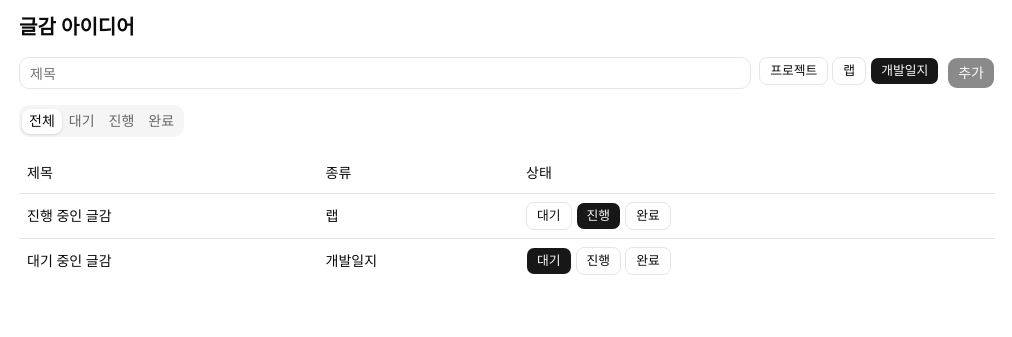
Scenario: IdeasPage 빠른 추가 › 예외 › 추가가 실패하면 입력한 제목이 남고 빠른 추가 아래에 오류 문구가 보여 다시 추가할 수 있어야 한다
expect the text "대기 중인 글감" is shown: met, box [19,238,318,282]
In the field with placeholder "제목": (385, 73) [19,57,751,89], type "실패했다 다시 추가"
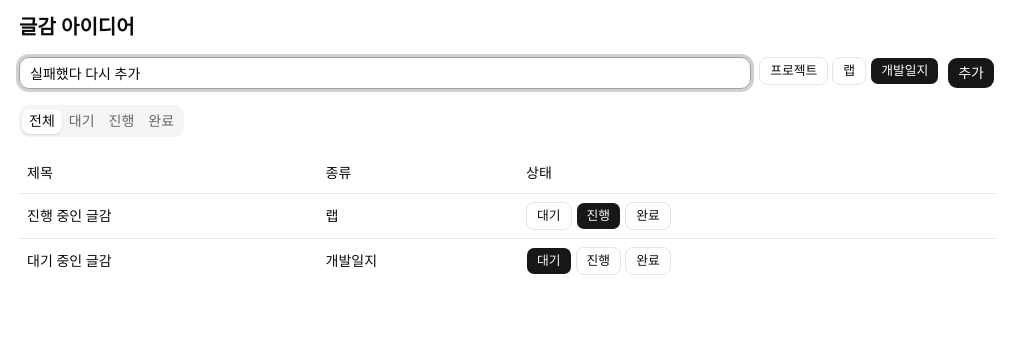
Click the button "추가": (971, 73) [947,57,995,89]
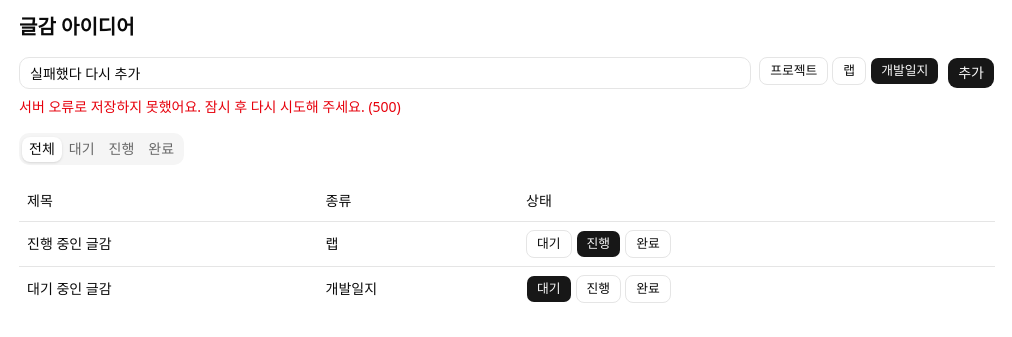
expect the message reads "서버 오류로 저장하지 못했어요. 잠시 후 다시 시도해 주세요. (500)": met, box [19,97,401,116]
Click the button "추가": (971, 73) [947,57,995,89]
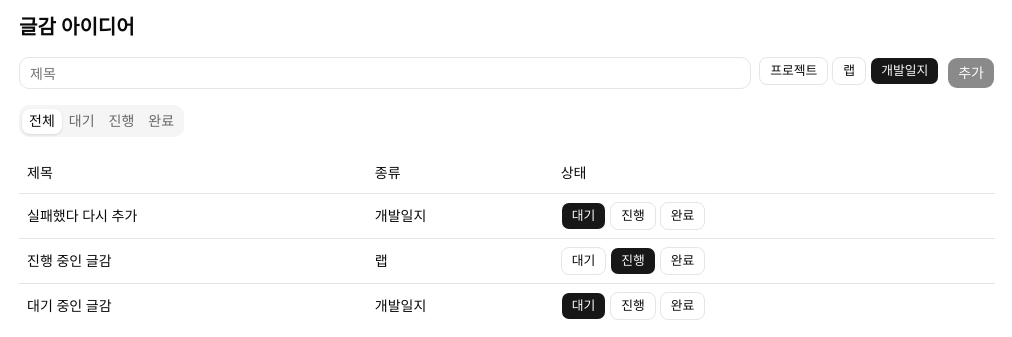
expect the row "실패했다 다시 추가 개발일지 대기 진행 완료" is shown: met, box [19,193,995,238]
expect the message "서버 오류로 저장하지 못했어요. 잠시 후 다시 시도해 주세요. (500)" is gone: met
